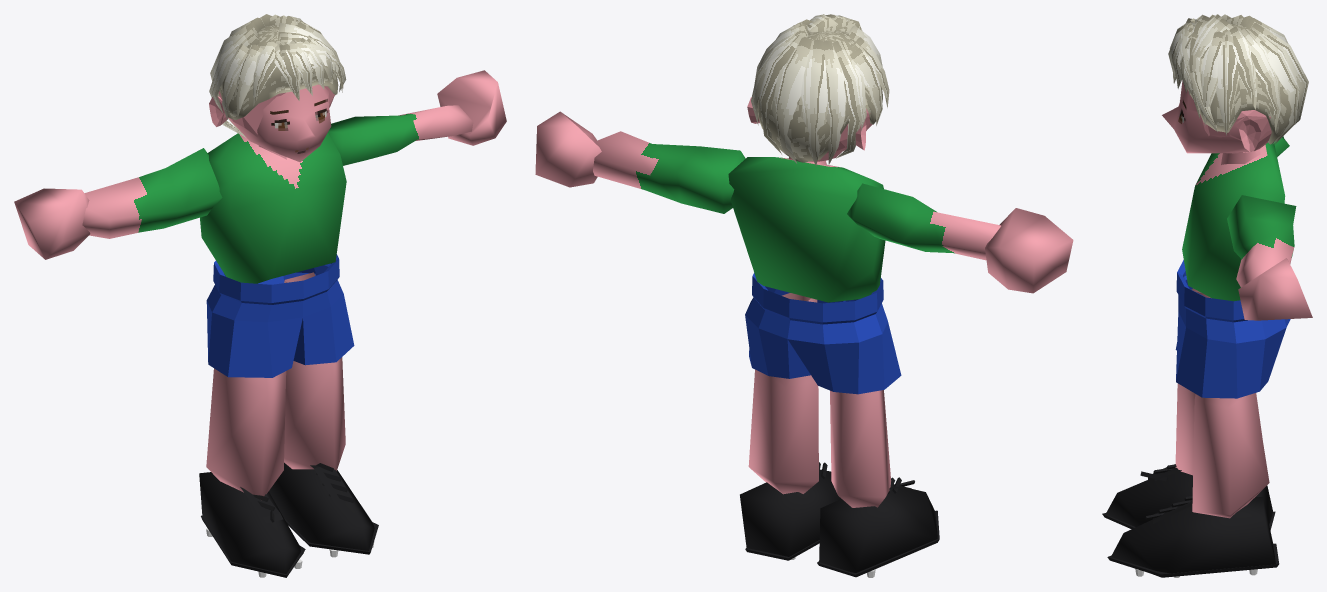
Rendered from 01-liso-repartido_loiro-pintado.glb.
3 views of the same model, side by side, from view 1: azimuth 30°, elevation 25°; view 2: azimuth 150°, elevation 25°; view 3: azimuth 270°, elevation 25° (orthographic). The views are drawn at different scales.
Visible parts, largest first — view 1: Camisa_Tronco, Bermuda, Cabelo, Perna.R, Braco.R, Perna.L, Chuteira.R, Chuteira.L, Braco.L, Cabeca, Mao.R, Mao.L (+3 smaller); view 2: Camisa_Tronco, Cabelo, Bermuda, Perna.L, Braco.L, Chuteira.R, Perna.R, Braco.R, Mao.R, Chuteira.L, Mao.L, Chuteira_Sola.R; view 3: Cabelo, Bermuda, Chuteira.L, Camisa_Tronco, Perna.L, Braco.L, Mao.L, Chuteira.R, Cabeca, Perna.R, Chuteira_Sola.L, Cranio (+4 smaller).
Part boxes in pixels (box(x1,y1,x2,y2)): Camisa_Tronco: box(200, 133, 346, 283); Bermuda: box(206, 254, 354, 377); Cabelo: box(209, 14, 346, 137); Perna.R: box(206, 368, 286, 500); Braco.R: box(82, 148, 222, 238); Perna.L: box(284, 272, 345, 471); Chuteira.R: box(199, 472, 303, 573); Chuteira.L: box(269, 462, 374, 550); Braco.L: box(328, 105, 473, 165); Cabeca: box(231, 84, 331, 162); Mao.R: box(14, 188, 90, 259); Mao.L: box(437, 70, 506, 145); Camisa_Tronco: box(728, 157, 885, 302); Cabelo: box(751, 14, 889, 166); Bermuda: box(745, 273, 901, 394); Perna.L: box(748, 293, 818, 494); Braco.L: box(593, 131, 745, 213); Chuteira.R: box(819, 484, 937, 572); Perna.R: box(830, 390, 891, 507); Braco.R: box(847, 183, 1000, 260); Mao.R: box(985, 208, 1073, 293); Chuteira.L: box(740, 469, 841, 556); Mao.L: box(535, 111, 601, 187); Chuteira_Sola.R: box(817, 510, 939, 577); Cabelo: box(1168, 14, 1308, 144); Bermuda: box(1175, 260, 1290, 398); Chuteira.L: box(1111, 497, 1276, 577); Camisa_Tronco: box(1182, 142, 1285, 301); Perna.L: box(1192, 393, 1269, 518); Braco.L: box(1227, 195, 1296, 287); Mao.L: box(1238, 258, 1312, 320); Chuteira.R: box(1106, 467, 1272, 526); Cabeca: box(1162, 80, 1254, 153); Perna.R: box(1175, 288, 1262, 475); Chuteira_Sola.L: box(1107, 543, 1279, 577); Cranio: box(1202, 110, 1271, 153).
Bounding box in the file's own units: 0.4523 × 0.4524 × 0.1617.
3 materials, 3 textured.
